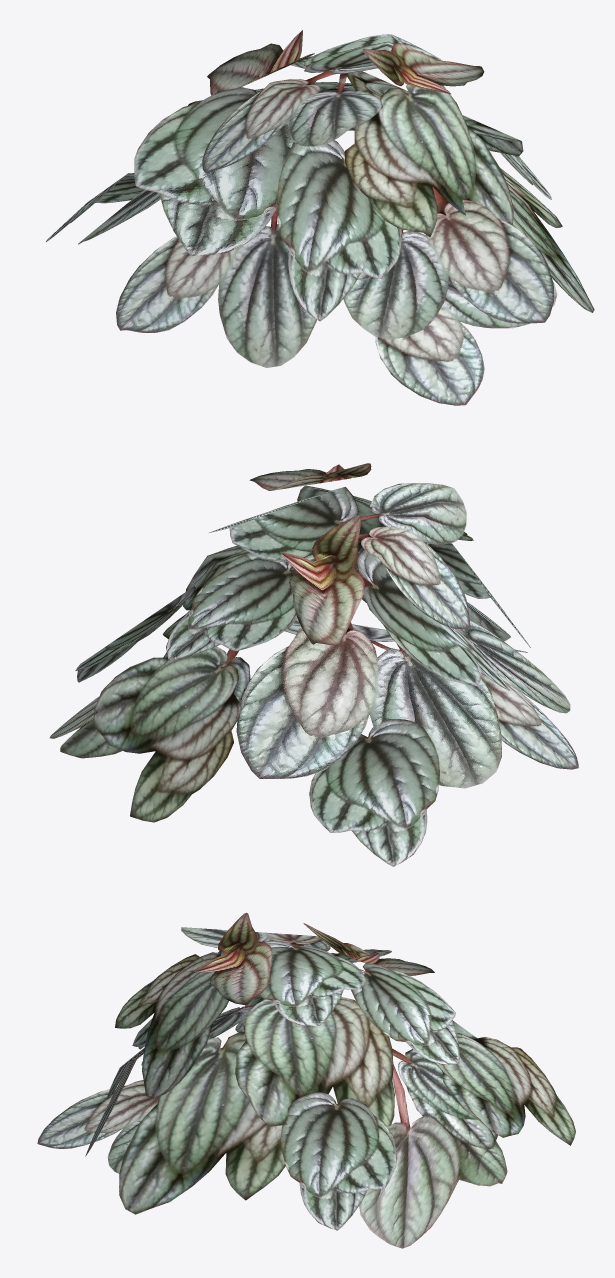
The model's file is Peperomia3.fbx.
3 renders of one model, top to bottom at view 1: azimuth 30°, elevation 25°; view 2: azimuth 150°, elevation 25°; view 3: azimuth 270°, elevation 25°, orthographic. The views are drawn at different scales.
Parts seen in each view (by area): view 1: Peperomia3; view 2: Peperomia3; view 3: Peperomia3.
Boxes of the visible parts, x1,y1,x2,y2 form: Peperomia3: [46, 30, 594, 405]; Peperomia3: [49, 463, 578, 866]; Peperomia3: [37, 912, 575, 1248].
Bounding box in the file's own units: 61.67 × 34.7 × 71.04.
